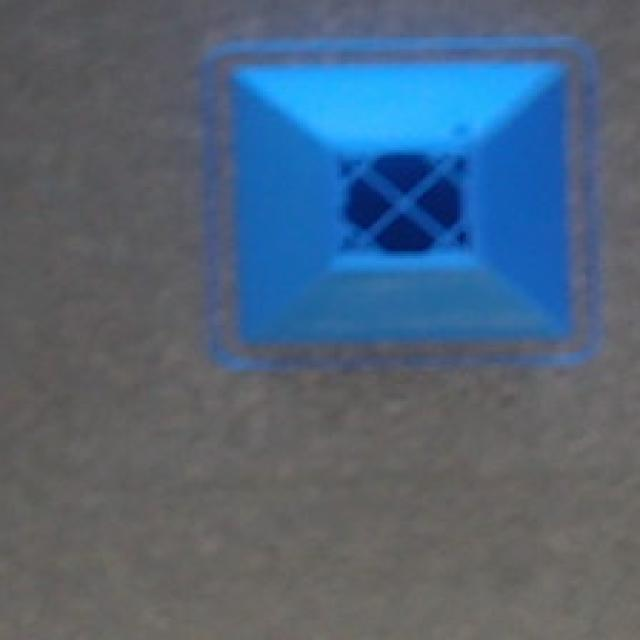mistake: (223, 53, 582, 345)
